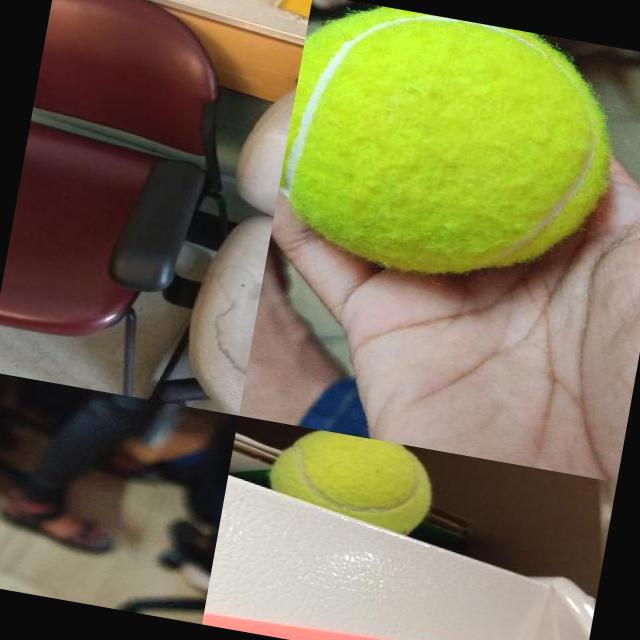Tennis Ball: (269, 0, 630, 302), (266, 422, 443, 516)
